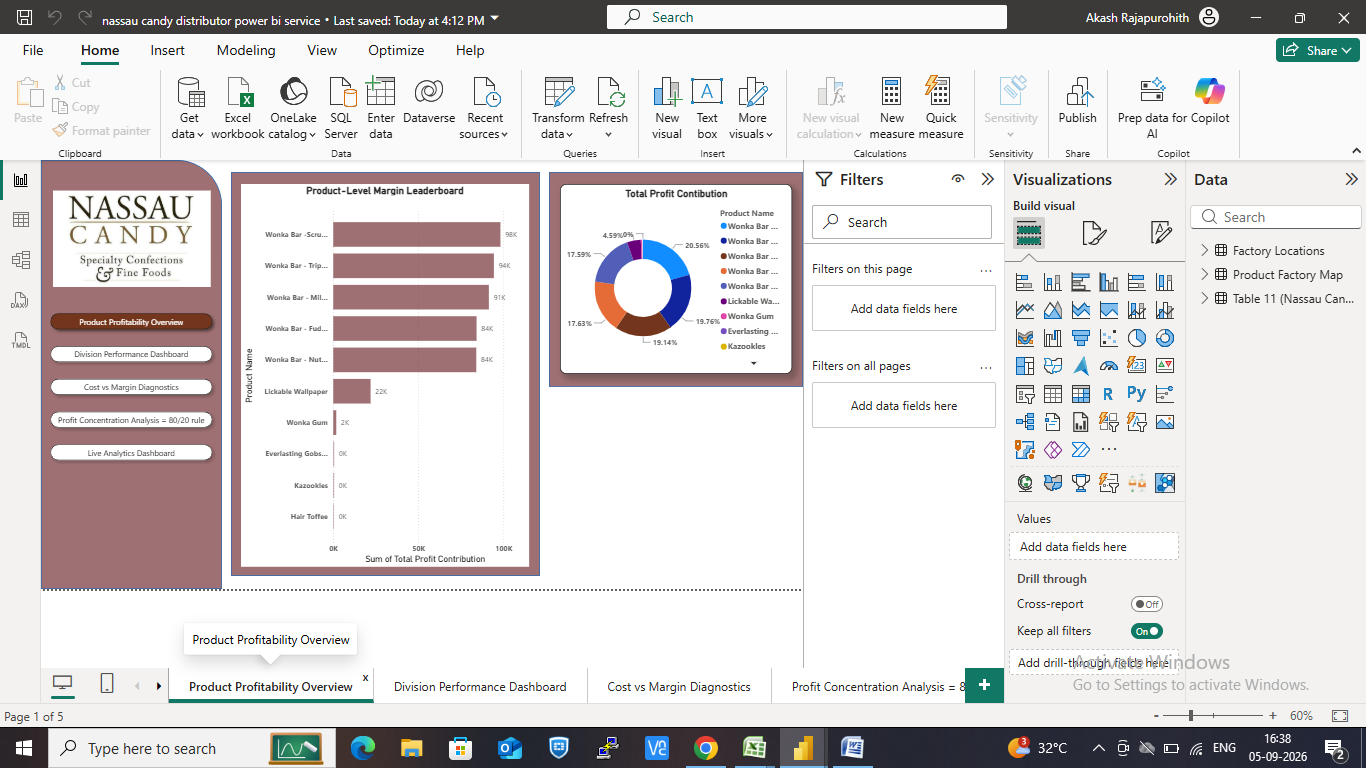

This screenshot's page, from the dashboard's own definition file:
{"tool":"powerbi","page":{"name":"Product Profitability Overview","canvas":[1280,720],"ordinal":0},"visuals":[{"type":"shape","box":[319.2,20.2,519.1,678.6],"z":0},{"type":"shape","box":[853.3,20.2,426.7,361.2],"z":1000},{"type":"donutChart","title":"Total Profit Contibution","fields":{"Category":["Table 11 (Nassau Candy Distributor 1).Product Name"],"Y":["Sum(Table 11 (Nassau Candy Distributor 1).Total  Profit Contribution)"]},"box":[871.8,40.3,389.7,319.2],"z":2000},{"type":"shape","box":[0,0,304,720.6],"z":2500,"group":"g1"},{"type":"clusteredBarChart","title":"Product-Level Margin Leaderboard","fields":{"Category":["Table 11 (Nassau Candy Distributor 1).Product Name"],"Y":["Sum(Table 11 (Nassau Candy Distributor 1).Total  Profit Contribution)"]},"box":[336,40.3,483.8,643.4],"z":3000},{"type":"group","id":"g1","title":"Group 1","box":[0,0,304,720.6],"z":4000},{"type":"image","box":[20.2,40.3,265.4,183.1],"z":5000},{"type":"pageNavigator","box":[6.7,248.6,290.6,265.4],"z":6000,"group":"g1"}]}

Visuals, with their boxes on the page's 1280x720 design canvas (x1, y1, x2, y2). These are canvas units, not pixel positions in the 1366x768 screenshot, which may show the page scaled, cropped or inside an application window:
shape: BBox(319, 20, 838, 699)
shape: BBox(853, 20, 1280, 381)
"Total Profit Contibution" donutChart: BBox(872, 40, 1262, 360)
shape: BBox(0, 0, 304, 721)
"Product-Level Margin Leaderboard" clusteredBarChart: BBox(336, 40, 820, 684)
"Group 1" group: BBox(0, 0, 304, 721)
image: BBox(20, 40, 286, 223)
pageNavigator: BBox(7, 249, 297, 514)
